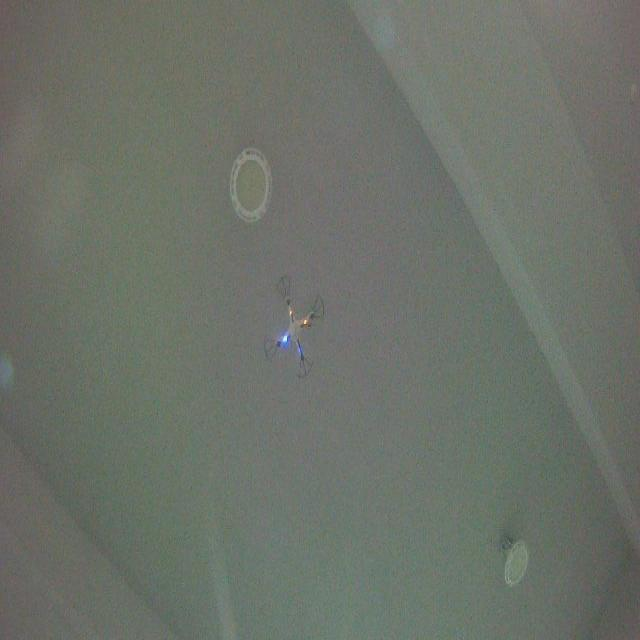drone: (261, 273, 327, 379)
